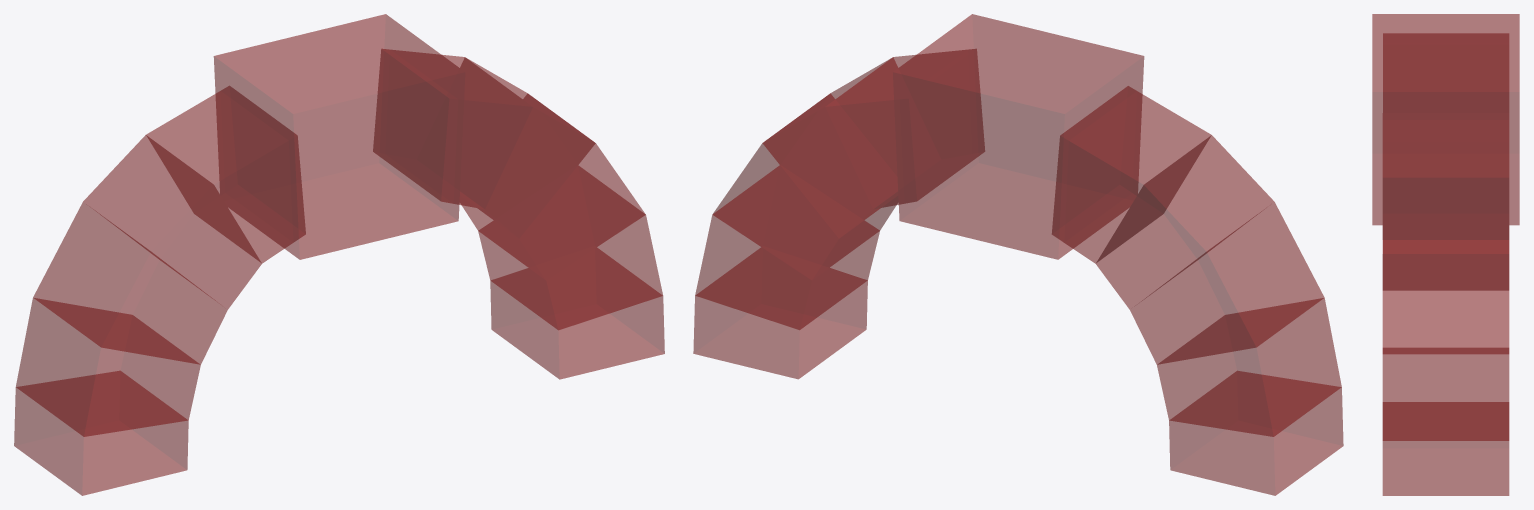
The model's file is SM_Prop_Gantry_05_Collision.fbx.
The picture shows the model from 3 angles, left to right: view 1: azimuth 30°, elevation 25°; view 2: azimuth 150°, elevation 25°; view 3: azimuth 270°, elevation 25°; orthographic projection. The views are drawn at different scales.
Parts seen in each view (by area): view 1: SM_Prop_Gantry_05_Collision; view 2: SM_Prop_Gantry_05_Collision; view 3: SM_Prop_Gantry_05_Collision.
Boxes of the visible parts, x1,y1,x2,y2 form: SM_Prop_Gantry_05_Collision: (14,14,664,495); SM_Prop_Gantry_05_Collision: (693,14,1343,495); SM_Prop_Gantry_05_Collision: (1372,14,1519,495).
Size of the model in its own units: 1272 by 701 by 301.
